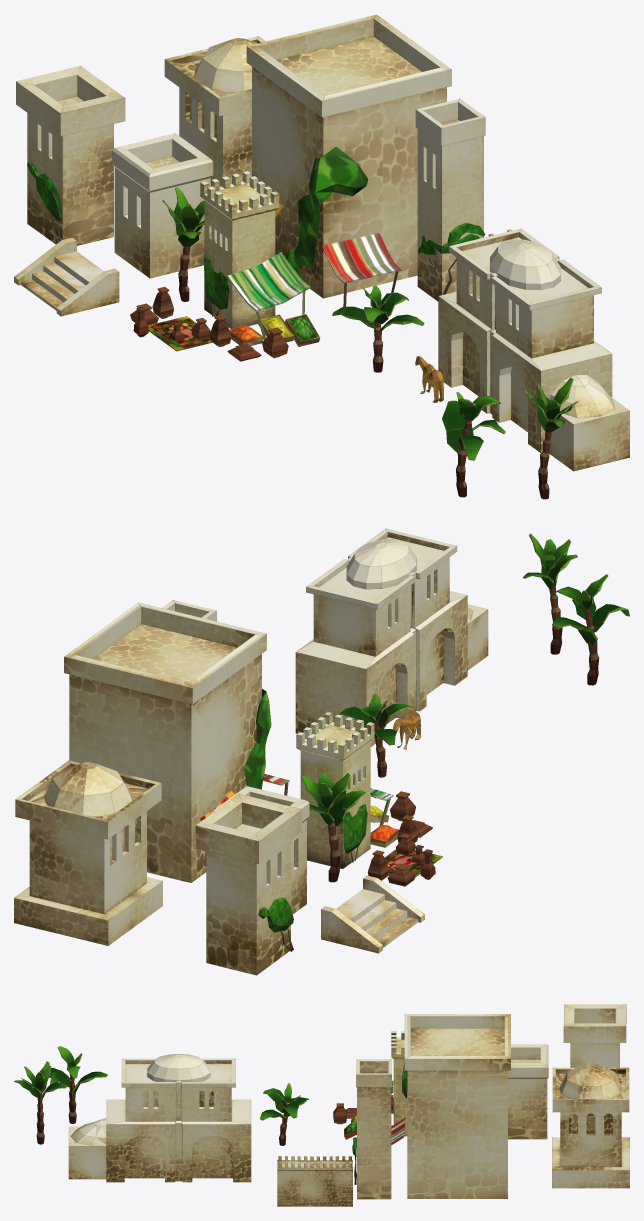
File: oriental.glb
The picture shows the model from 3 angles, top to bottom: view 1: azimuth 30°, elevation 25°; view 2: azimuth 150°, elevation 25°; view 3: azimuth 270°, elevation 25°; orthographic projection. The views are drawn at different scales.
Parts seen in each view (by area): view 1: house3, house5, house7, house8, house6, house2, house_9, house4, stairs, ivy_1, carpet_1, carpet_2 (+10 smaller); view 2: house3, house5, house2, house7, house_9, stairs, palm.003, palm.004, house8, palm.002, palm.001, ivy_1 (+5 smaller); view 3: house3, house5, house2, house6, house8, house_1, house7, house4, palm.004, house_9, palm.002, palm.001.
Part boxes in pixels (x1,y1,x2,y2): house3: [246, 14, 451, 298]; house5: [438, 228, 612, 452]; house7: [16, 66, 125, 245]; house8: [112, 133, 213, 278]; house6: [415, 98, 485, 301]; house2: [164, 36, 265, 186]; house_9: [200, 171, 279, 328]; house4: [549, 375, 629, 471]; stairs: [14, 237, 119, 316]; ivy_1: [285, 146, 368, 275]; carpet_1: [227, 252, 310, 339]; carpet_2: [322, 232, 401, 306]; house3: [64, 602, 266, 882]; house5: [295, 528, 467, 746]; house2: [14, 760, 162, 945]; house7: [195, 793, 301, 975]; house_9: [296, 712, 374, 868]; stairs: [321, 875, 424, 953]; palm.003: [300, 773, 365, 882]; palm.004: [550, 574, 629, 685]; house8: [209, 786, 309, 914]; palm.002: [523, 533, 577, 654]; palm.001: [338, 694, 416, 777]; ivy_1: [244, 689, 271, 789]; house3: [404, 1014, 510, 1198]; house5: [106, 1053, 251, 1182]; house2: [552, 1063, 629, 1188]; house6: [356, 1059, 391, 1199]; house8: [508, 1044, 548, 1139]; house_1: [277, 1156, 352, 1206]; house7: [563, 1004, 626, 1067]; house4: [68, 1118, 106, 1179]; palm.004: [49, 1046, 107, 1123]; house_9: [391, 1031, 407, 1136]; palm.002: [14, 1061, 67, 1144]; palm.001: [260, 1083, 308, 1145].
Size of the model in its own units: 253 by 134 by 527.
Materials: 1 (1 with a texture image).
